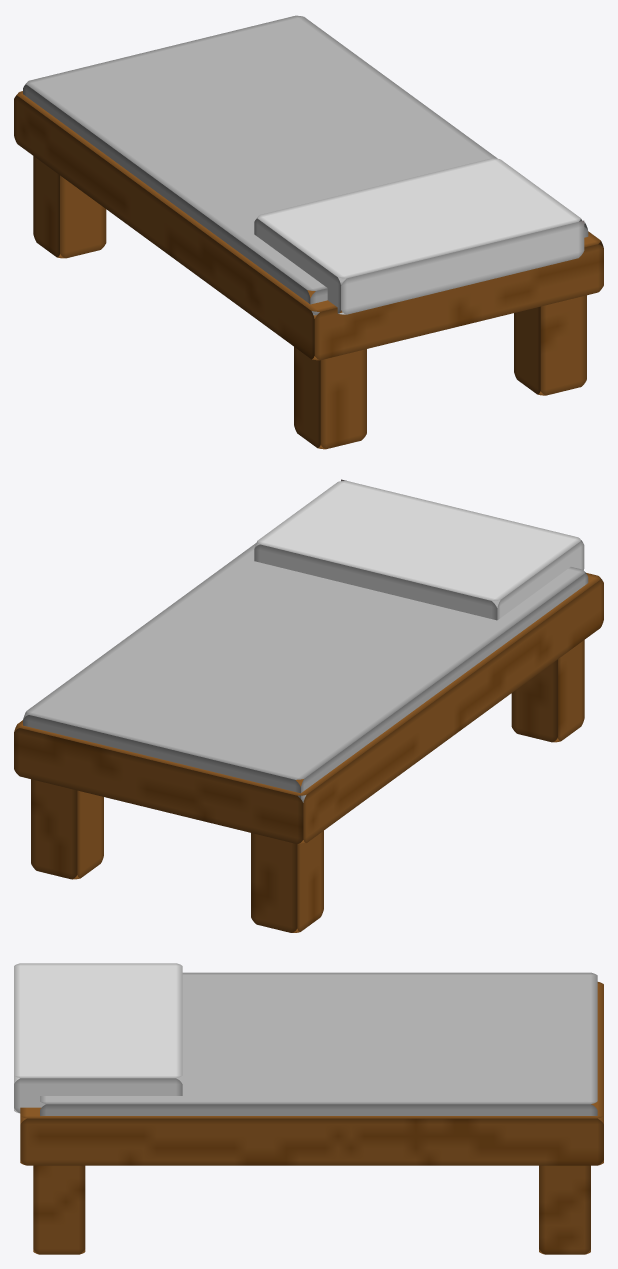
File: Bed.fbx
3 renders of one model, top to bottom at view 1: azimuth 30°, elevation 25°; view 2: azimuth 150°, elevation 25°; view 3: azimuth 270°, elevation 25°, orthographic. The views are drawn at different scales.
Visible parts, largest first — view 1: Mattres, Pillow, Frame, Leg3, Leg1, Leg4; view 2: Mattres, Frame, Pillow, Leg4, Leg2, Leg3; view 3: Mattres, Frame, Pillow, Leg1, Leg2.
Part boxes in pixels (<box>): Mattres: <box>23,15,588,315</box>; Pillow: <box>254,158,584,314</box>; Frame: <box>14,91,603,360</box>; Leg3: <box>294,347,366,449</box>; Leg1: <box>514,295,586,395</box>; Leg4: <box>33,156,106,258</box>; Mattres: <box>23,543,588,802</box>; Frame: <box>14,573,603,844</box>; Pillow: <box>254,479,584,620</box>; Leg4: <box>251,831,323,932</box>; Leg2: <box>31,779,103,879</box>; Leg3: <box>511,640,584,742</box>; Mattres: <box>40,972,597,1115</box>; Frame: <box>20,982,603,1165</box>; Pillow: <box>14,963,182,1113</box>; Leg1: <box>33,1165,85,1254</box>; Leg2: <box>539,1165,590,1254</box>.
Size of the model in its own units: 156 by 90.62 by 284.
Materials: 1 (1 with a texture image).
